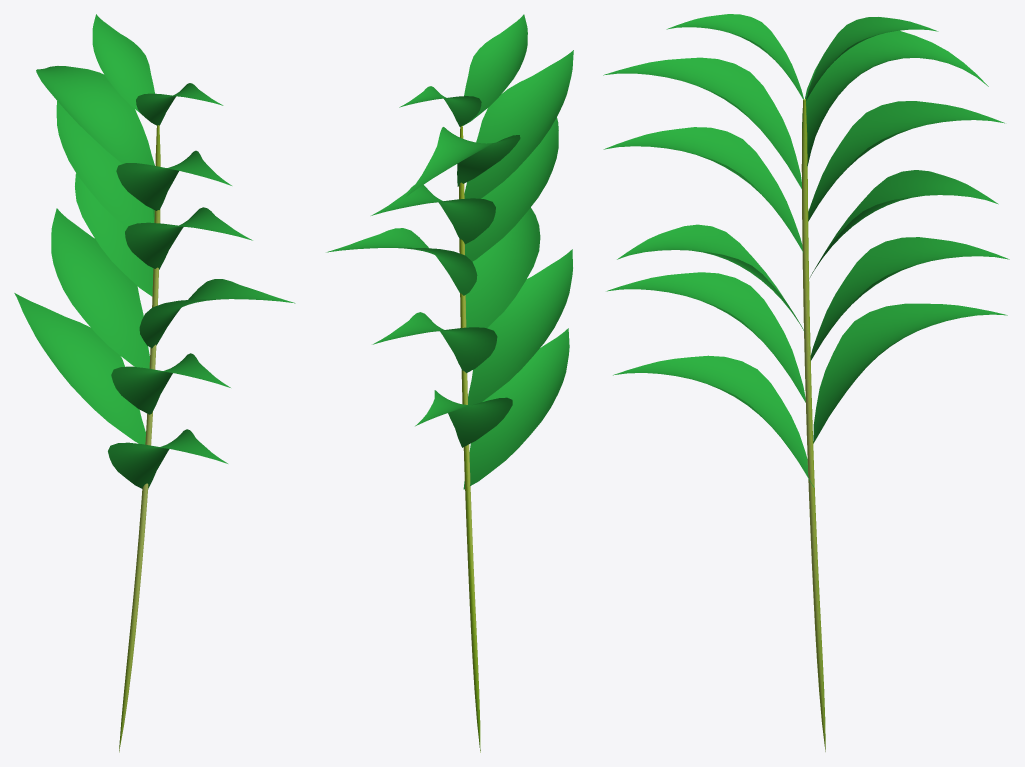
File: 生長2(改中心點).FBX
3 renders of one model, left to right at view 1: azimuth 30°, elevation 25°; view 2: azimuth 150°, elevation 25°; view 3: azimuth 270°, elevation 25°, orthographic. The views are drawn at different scales.
Visible parts, largest first — view 1: Plane012, Plane015, Plane006, Plane007, Plane005, Plane010, Plane013, Plane009, Plane008, Plane014, Plane011, Cylinder002 (+1 smaller); view 2: Plane013, Plane008, Plane014, Plane011, Plane009, Plane004, Plane006, Plane012, Plane007, Cylinder002, Plane015, Plane010 (+1 smaller); view 3: Plane015, Plane008, Plane013, Plane014, Plane006, Plane012, Plane009, Plane007, Cylinder002, Plane010, Plane011, Plane004 (+1 smaller).
Boxes of the visible parts, left/top/right/bottom form: Plane012: left=51, top=208, right=149, bottom=368; Plane015: left=14, top=293, right=145, bottom=444; Plane006: left=36, top=66, right=154, bottom=165; Plane007: left=56, top=101, right=154, bottom=227; Plane005: left=92, top=14, right=154, bottom=112; Plane010: left=75, top=173, right=154, bottom=296; Plane013: left=111, top=353, right=230, bottom=414; Plane009: left=125, top=207, right=252, bottom=269; Plane008: left=116, top=150, right=231, bottom=210; Plane014: left=108, top=429, right=227, bottom=489; Plane011: left=139, top=279, right=295, bottom=348; Cylinder002: left=119, top=125, right=160, bottom=752; Plane013: left=468, top=249, right=572, bottom=405; Plane008: left=464, top=50, right=573, bottom=198; Plane014: left=463, top=328, right=569, bottom=489; Plane011: left=465, top=207, right=540, bottom=328; Plane009: left=465, top=117, right=558, bottom=261; Plane004: left=463, top=14, right=527, bottom=125; Plane006: left=405, top=127, right=520, bottom=197; Plane012: left=372, top=312, right=497, bottom=373; Plane007: left=371, top=185, right=495, bottom=244; Cylinder002: left=459, top=126, right=480, bottom=752; Plane015: left=415, top=390, right=512, bottom=447; Plane010: left=326, top=228, right=477, bottom=295; Plane015: left=813, top=303, right=1007, bottom=443; Plane008: left=603, top=57, right=801, bottom=188; Plane013: left=606, top=272, right=805, bottom=402; Plane014: left=613, top=355, right=813, bottom=487; Plane006: left=802, top=30, right=988, bottom=166; Plane012: left=810, top=237, right=1009, bottom=360; Plane009: left=603, top=127, right=803, bottom=252; Plane007: left=808, top=101, right=1004, bottom=221; Cylinder002: left=801, top=99, right=825, bottom=751; Plane010: left=809, top=170, right=998, bottom=278; Plane011: left=617, top=224, right=805, bottom=333; Plane004: left=666, top=14, right=803, bottom=99.
Bounding box in the file's own units: 13.02 × 67.46 × 33.72.
Materials: 2 (2 with a texture image).
